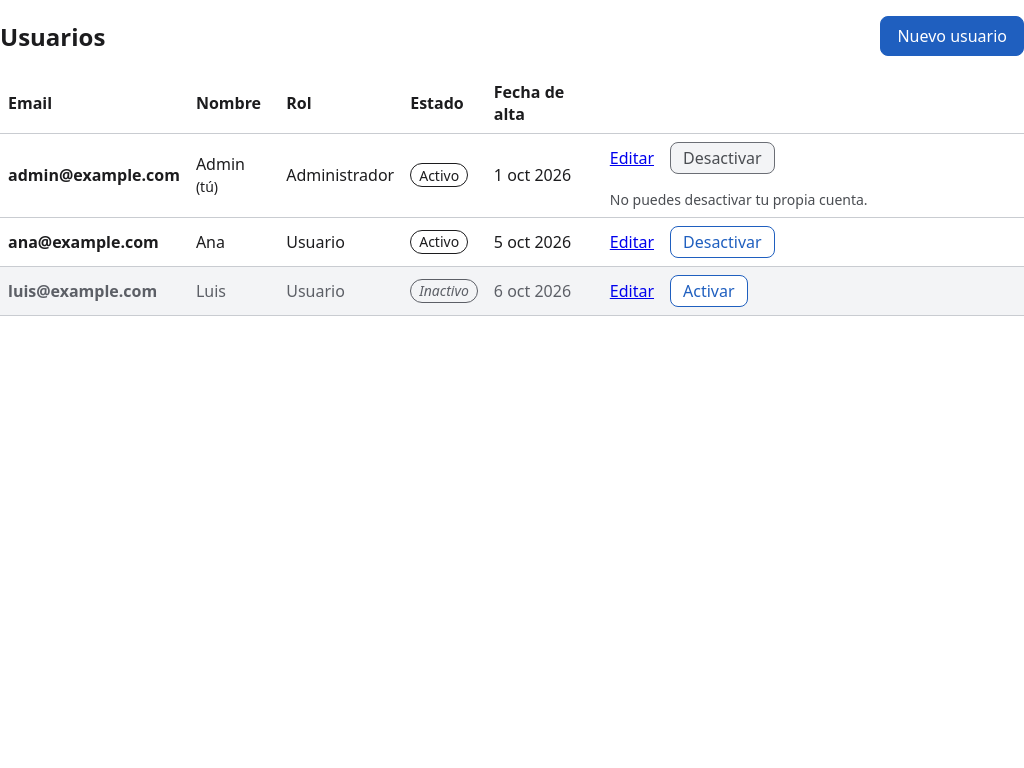
UsuarioListComponent › activar y desactivar › confirmar desactivar envía PUT con nombre y rol actuales y activo=false; actualiza fila, avisa y recarga en silencio
Click the button "Desactivar" in the row of "ana@example.com". click: (722, 242)
box: [670, 226, 775, 258]
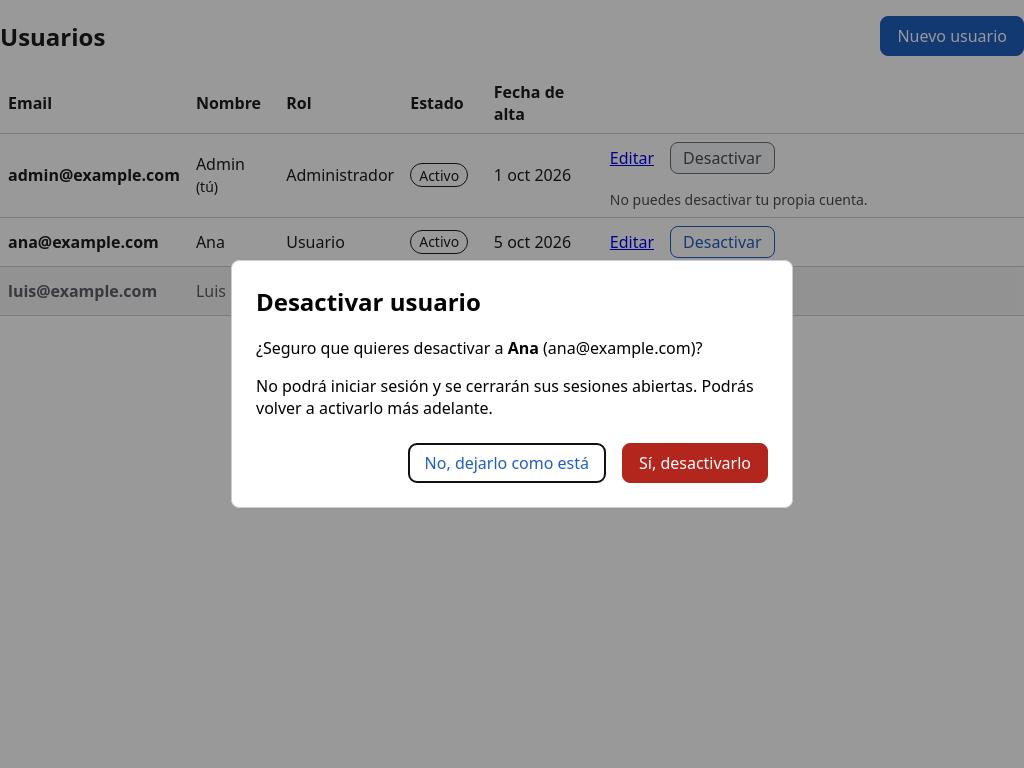
Click the button "Sí, desactivarlo". click: (695, 464)
box: [622, 444, 768, 484]
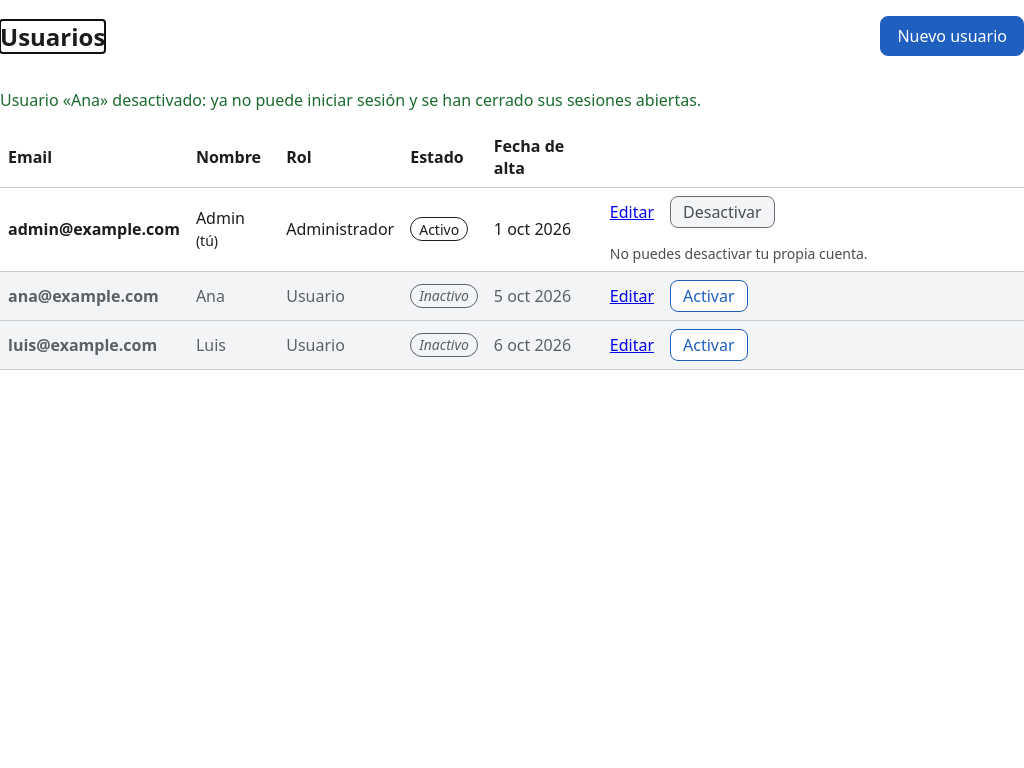
Expected: the row that starts with "ana@example.com" shows "Inactivo", [419, 286, 469, 305]
Expected: the text with class "exito" shows "desactivado", [0, 89, 701, 111]
